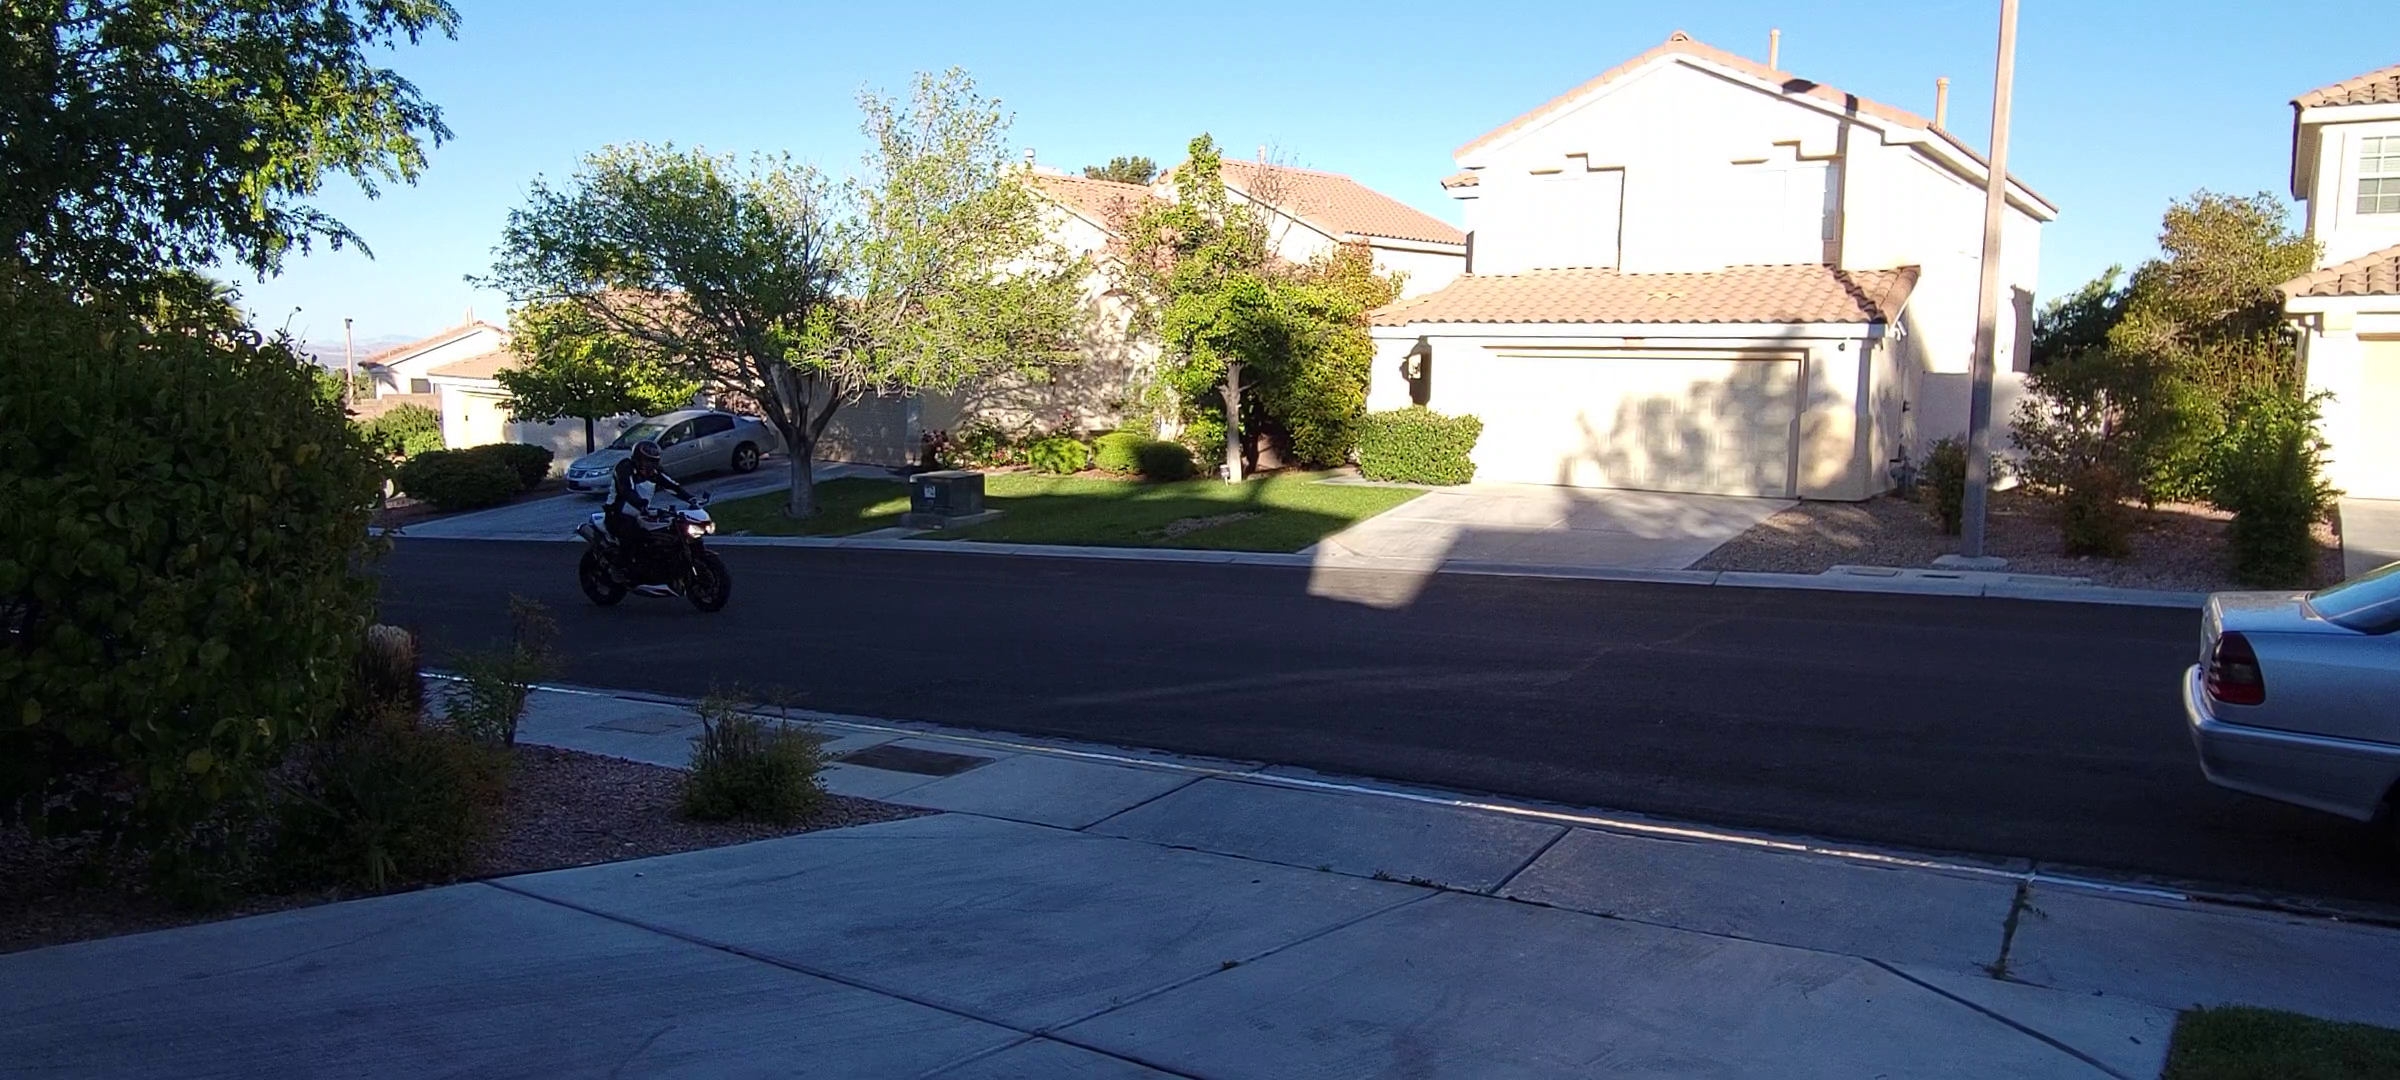other bike: (566, 438, 732, 610)
